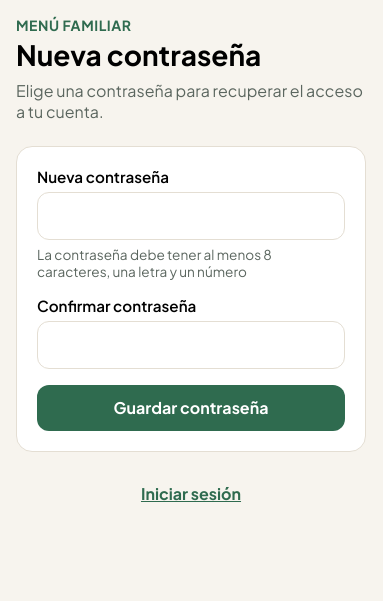
Test case: HU-04 Recuperación de contraseña › no envía una contraseña débil ni una confirmación distinta
Type "pollo" into the password field labelled "Nueva contraseña" at (191, 216), box [37,192,345,240]
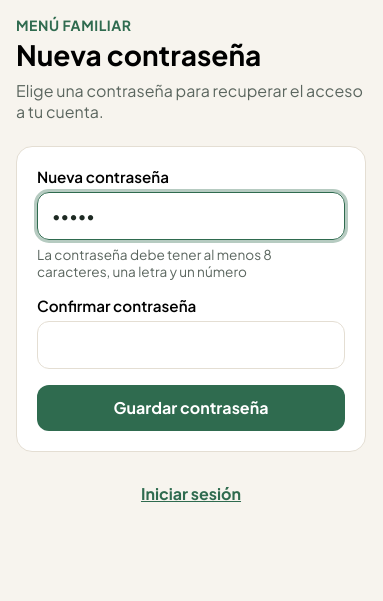
Click the button "Guardar contraseña" at (191, 408), box [37,385,345,431]
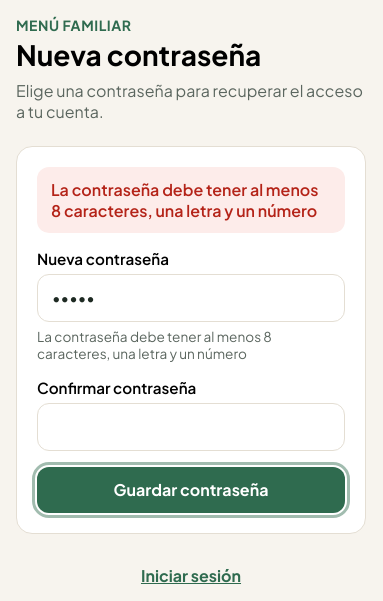
Type "PepianDePollo9" into the password field labelled "Nueva contraseña" at (191, 298), box [37,274,345,322]
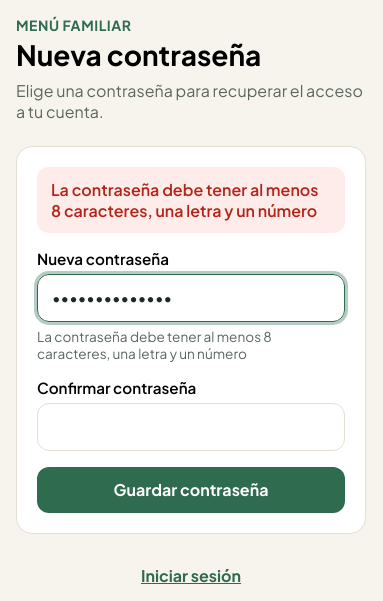
Type "OtraContrasena9" into the password field labelled "Confirmar contraseña" at (191, 427), box [37,403,345,451]
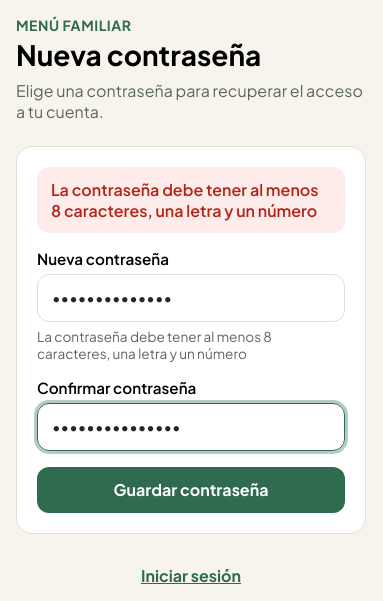
Click the button "Guardar contraseña" at (191, 490), box [37,467,345,513]
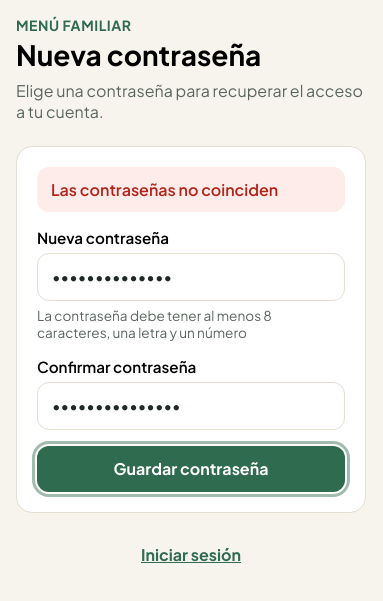
Check: the message reads "Las contraseñas no coinciden", box [51,179,278,200]
